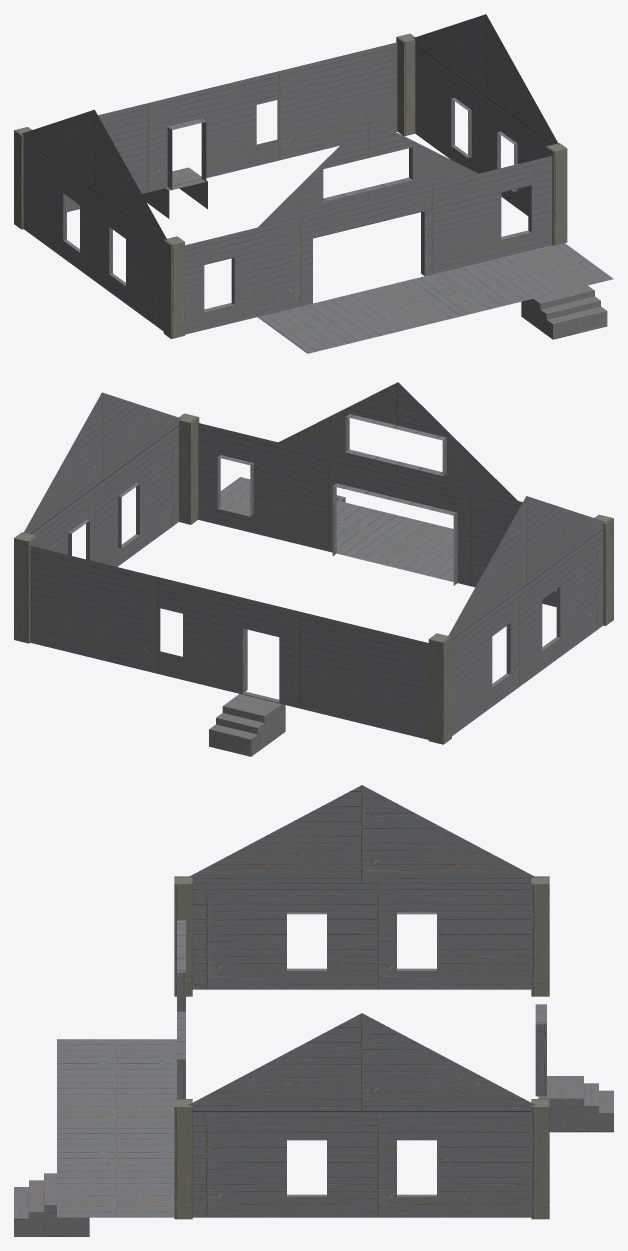
The model's file is rural_woodenbuilding_2_rural_walltrim_1_0_lev2.glb.
3 renders of one model, top to bottom at view 1: azimuth 30°, elevation 25°; view 2: azimuth 150°, elevation 25°; view 3: azimuth 270°, elevation 25°, orthographic. The views are drawn at different scales.
Visible parts, largest first — view 1: rural_woodenbuilding_2_rural_walltrim_1_0_lev2; view 2: rural_woodenbuilding_2_rural_walltrim_1_0_lev2; view 3: rural_woodenbuilding_2_rural_walltrim_1_0_lev2.
Boxes of the visible parts, box(x1,y1,x2,y2) form: rural_woodenbuilding_2_rural_walltrim_1_0_lev2: box(14, 14, 613, 353); rural_woodenbuilding_2_rural_walltrim_1_0_lev2: box(14, 382, 613, 756); rural_woodenbuilding_2_rural_walltrim_1_0_lev2: box(14, 785, 613, 1236).
Bounding box in the file's own units: 9.94 × 4.8 × 10.93.
1 material, 1 textured.
